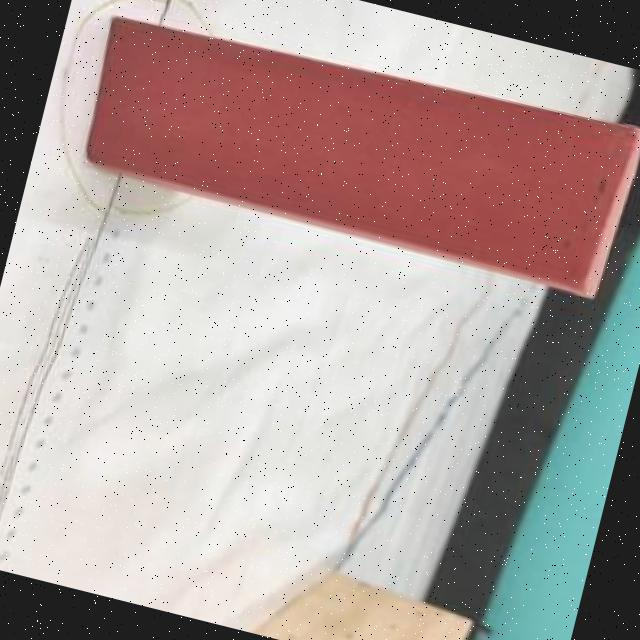redbox: (69, 0, 640, 303)
